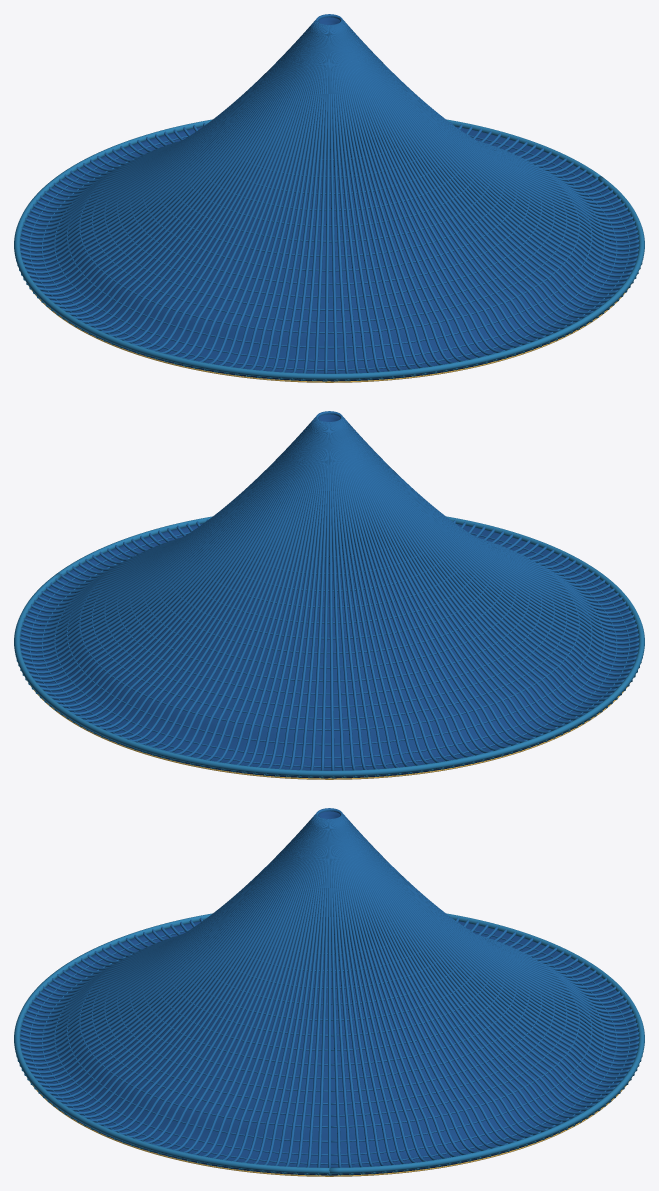
The model's file is SM_16_Roof_3.fbx.
3 views of the same model, one above another, from view 1: azimuth 30°, elevation 25°; view 2: azimuth 150°, elevation 25°; view 3: azimuth 270°, elevation 25° (orthographic).
Visible parts, largest first — view 1: Roof_3; view 2: Roof_3; view 3: Roof_3.
Boxes of the visible parts, x1,y1,x2,y2 form: Roof_3: (14, 14, 644, 382); Roof_3: (14, 411, 644, 779); Roof_3: (14, 808, 644, 1176).
Size of the model in its own units: 2051 by 2051 by 831.
